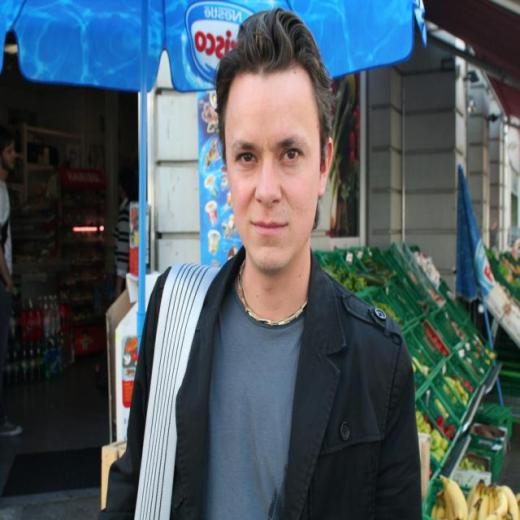Banana: (430, 478, 520, 520), (440, 474, 466, 518)
